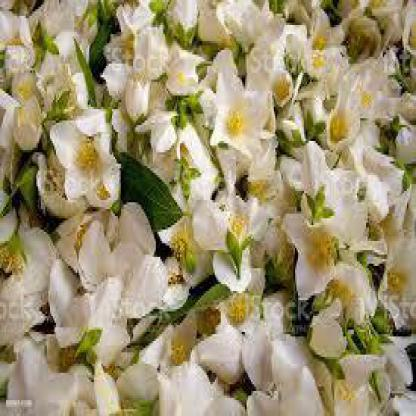Melati: (10, 15, 410, 401)
